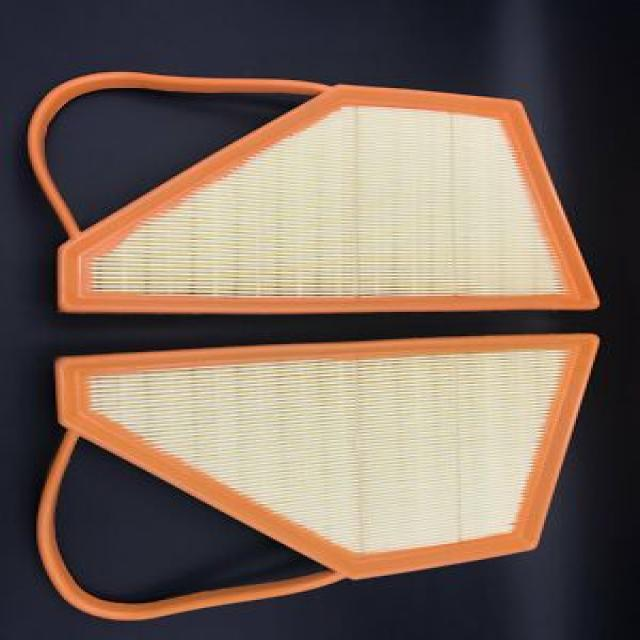air_filter: (33, 328, 614, 622), (19, 63, 614, 315)
